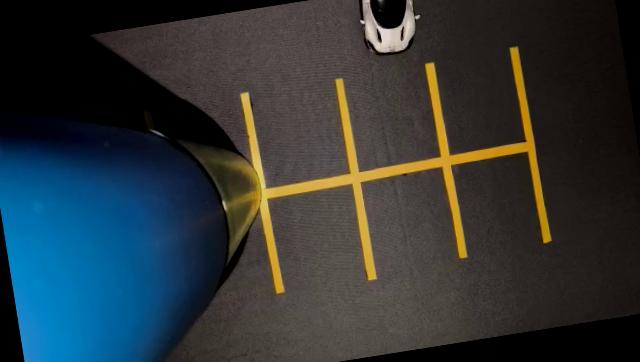toy_car: (288, 0, 463, 93)
